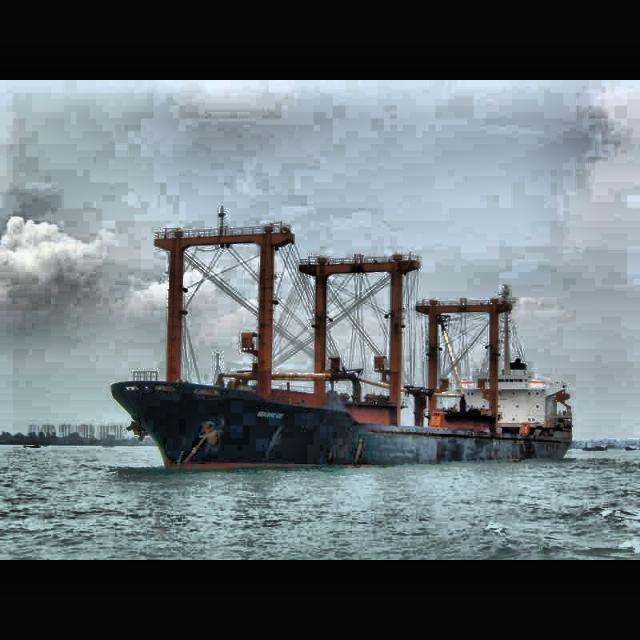bulk_carrier: (109, 207, 576, 478)
